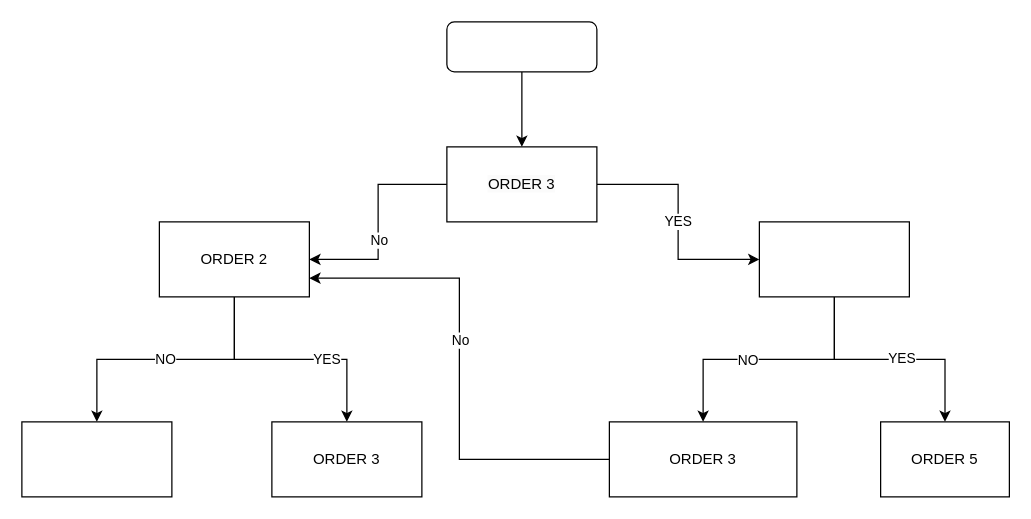
Image size: 1031x519. Some labels were removed from this diagram. The centre of each missing label's shape, as x and y in pixels:
Online QUESS: [521,46]
ORDER 1: [96,459]
ORDER 4: [833,259]
